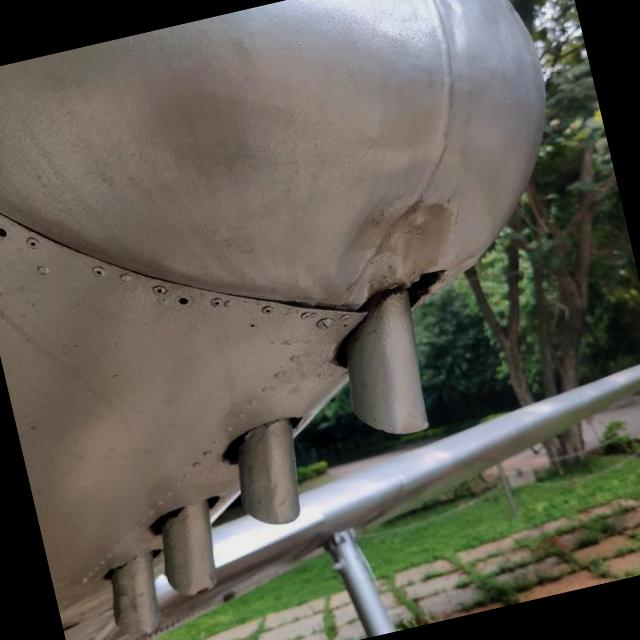Missing Fastener: (174, 290, 196, 308), (0, 221, 9, 243)
dent: (304, 178, 474, 314)
